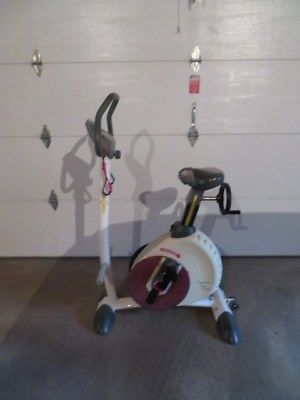gym_bike: (65, 95, 249, 346)
